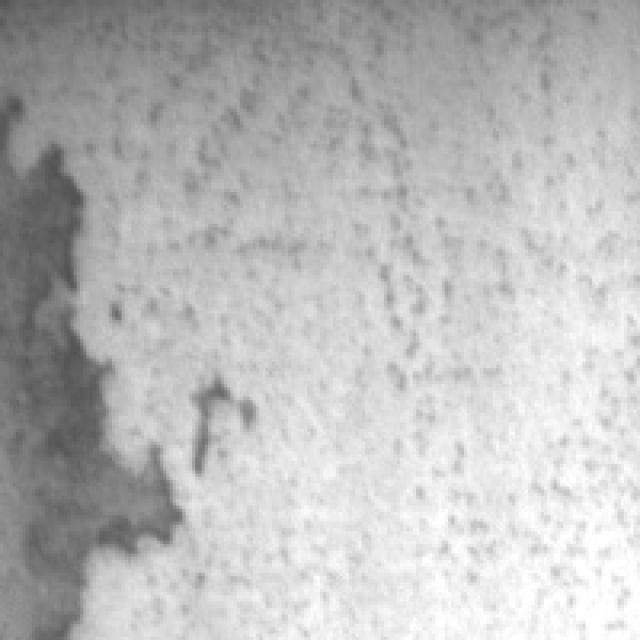patches: (3, 282, 179, 634), (12, 125, 90, 352)
pitted_surface: (121, 0, 636, 637)
